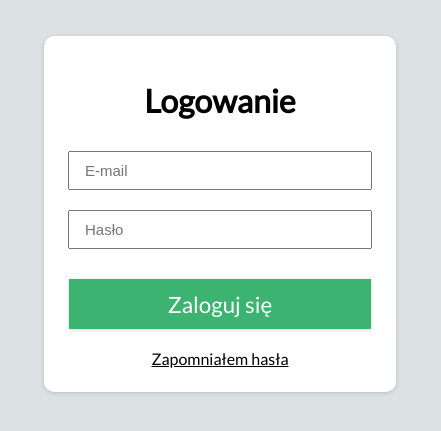
Test: Proper login process › with incorret password or email error › shows proper message
In the field with test id "email": (220,171) [68,151,372,190], type "u@wp.pl"
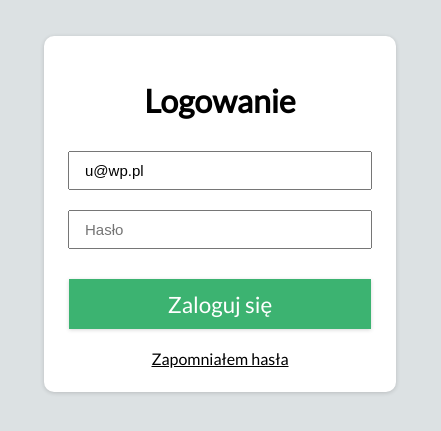
In the password field with test id "pass": (220,230) [68,210,372,249], type "Paswordt1!"
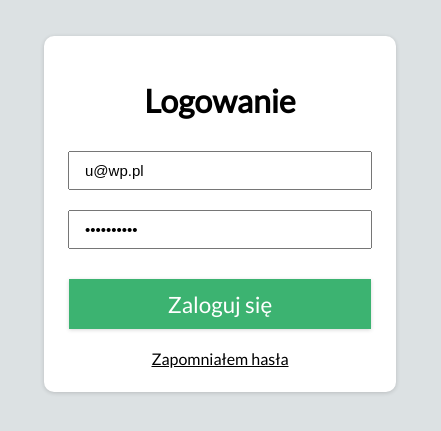
Click the button showing "Zaloguj się": (220,304) [69,279,371,329]
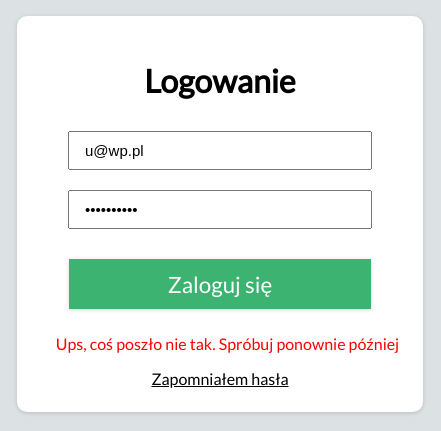
expect the number of elements with test id "invalid-msg" is 1: met, box [56,334,399,353]
expect the text with test id "invalid-msg" reads "Ups, coś poszło nie tak. Spróbuj ponownie później": met, box [56,334,399,353]
